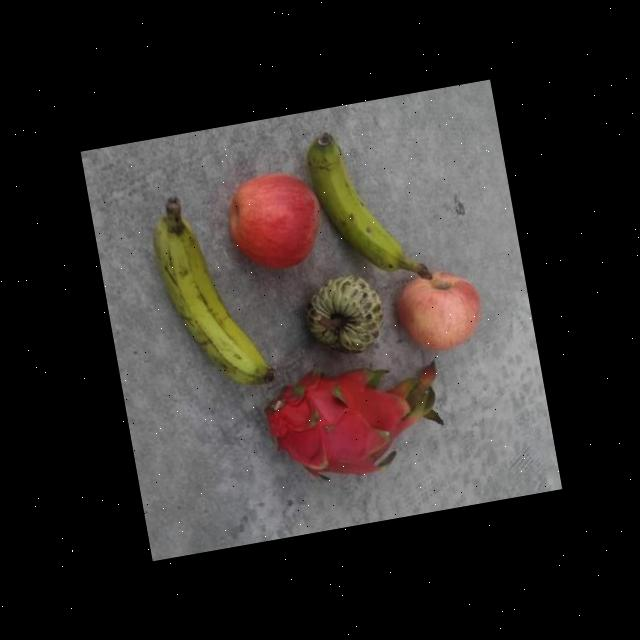Sakya fruit: (298, 270, 390, 362)
apple: (220, 164, 328, 276), (389, 264, 487, 359)
banana: (144, 182, 276, 400), (302, 116, 430, 298)
pitaya: (254, 346, 450, 493)
